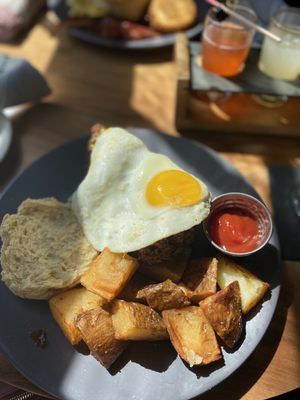salad: (208, 0, 281, 43)
sushi: (202, 192, 273, 256)
